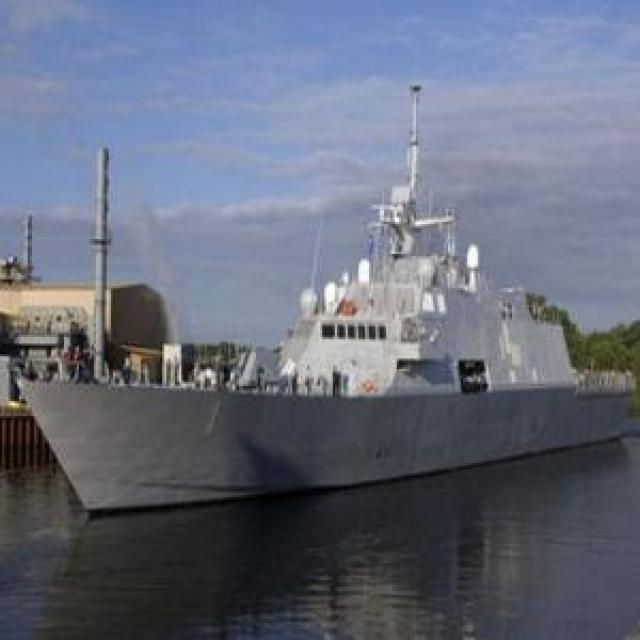navalvessels: (17, 64, 616, 530)
